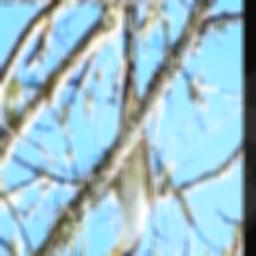Cuckoo: (105, 0, 155, 256)
